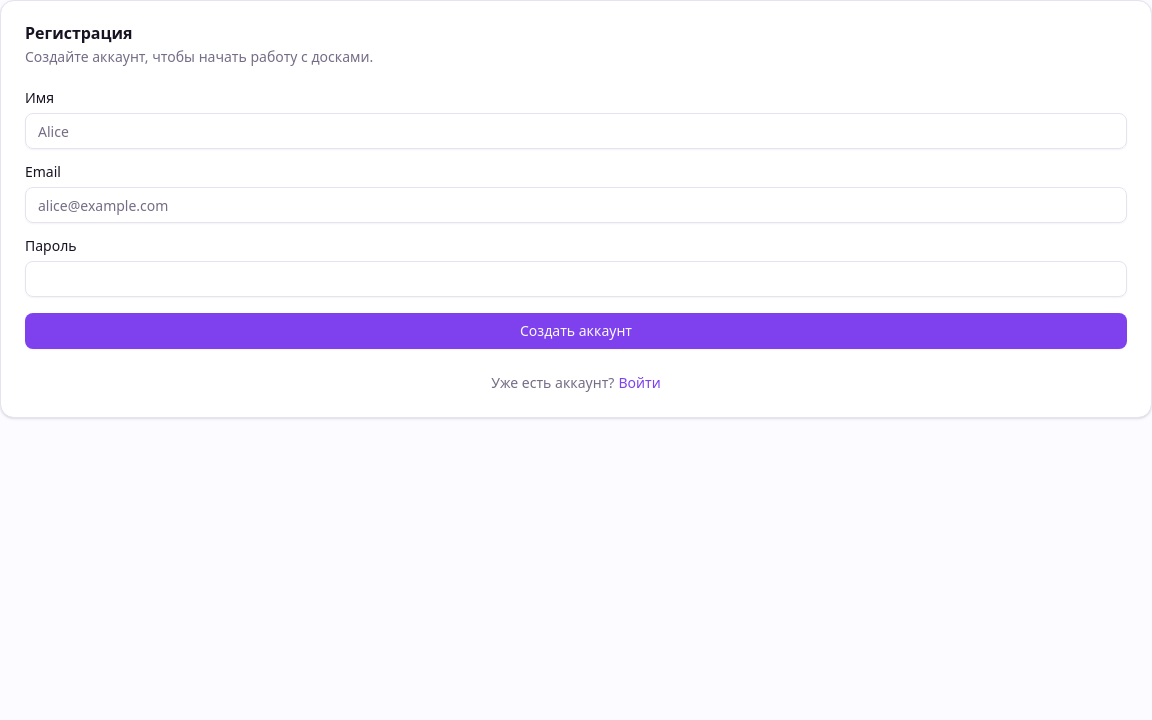
Scenario: RegisterPage › validates the form before submitting
The width and height of the screenshot is (1152, 720).
Click the button "Создать аккаунт".
click(576, 331)  # box [25,313,1127,349]
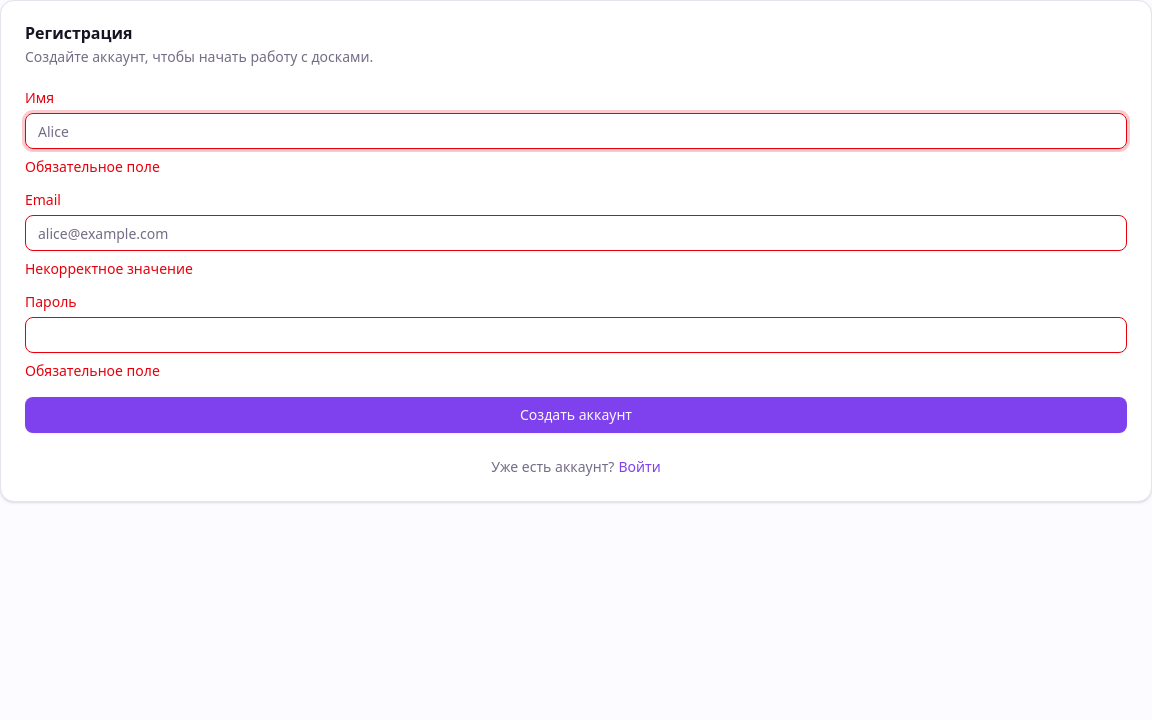
Expected: the text "Некорректное значение" is shown, [25,259,193,278]
